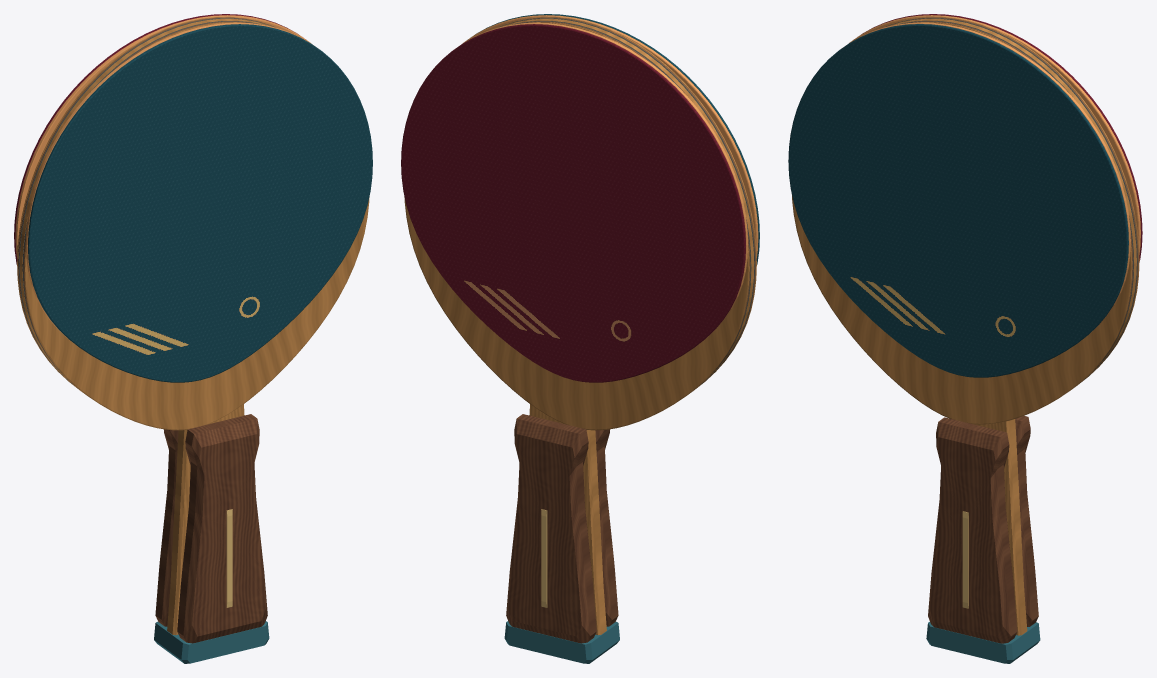
The model's file is rally-paddle-draft.glb.
The picture shows the model from 3 angles, left to right: view 1: azimuth 30°, elevation 25°; view 2: azimuth 150°, elevation 25°; view 3: azimuth 330°, elevation 25°; orthographic projection.
Visible parts, largest first — view 1: Ink blue playing face, Front walnut handle scale, Front maple veneer, Maple handle tang, Handle butt cap, Back walnut handle scale, Back amber sponge, Core ply, Front amber sponge, Oxblood playing face, Back walnut ply, Back maple veneer (+2 smaller); view 2: Oxblood playing face, Back walnut handle scale, Back maple veneer, Maple handle tang, Handle butt cap, Front walnut handle scale, Front amber sponge, Core ply, Back amber sponge, Ink blue playing face, Front walnut ply, Front maple veneer (+2 smaller); view 3: Ink blue playing face, Front walnut handle scale, Front maple veneer, Maple handle tang, Back walnut handle scale, Handle butt cap, Back amber sponge, Core ply, Front amber sponge, Oxblood playing face, Back walnut ply, Back maple veneer (+2 smaller).
Part boxes in pixels (x1=…): Ink blue playing face: x1=28, y1=24, x2=372, y2=382; Front walnut handle scale: x1=177, y1=414, x2=267, y2=643; Front maple veneer: x1=24, y1=22, x2=369, y2=430; Maple handle tang: x1=167, y1=404, x2=244, y2=635; Handle butt cap: x1=154, y1=621, x2=269, y2=663; Back walnut handle scale: x1=155, y1=429, x2=178, y2=626; Back amber sponge: x1=15, y1=15, x2=310, y2=257; Core ply: x1=19, y1=18, x2=272, y2=391; Front amber sponge: x1=25, y1=22, x2=309, y2=343; Oxblood playing face: x1=14, y1=14, x2=298, y2=264; Back walnut ply: x1=18, y1=17, x2=275, y2=382; Back maple veneer: x1=17, y1=16, x2=279, y2=381; Oxblood playing face: x1=401, y1=24, x2=745, y2=382; Back walnut handle scale: x1=506, y1=414, x2=596, y2=643; Back maple veneer: x1=404, y1=22, x2=749, y2=430; Maple handle tang: x1=529, y1=404, x2=606, y2=635; Handle butt cap: x1=504, y1=621, x2=619, y2=663; Front walnut handle scale: x1=595, y1=429, x2=618, y2=626; Front amber sponge: x1=463, y1=15, x2=758, y2=257; Core ply: x1=501, y1=18, x2=754, y2=391; Back amber sponge: x1=464, y1=22, x2=748, y2=343; Ink blue playing face: x1=475, y1=14, x2=759, y2=264; Front walnut ply: x1=498, y1=17, x2=755, y2=382; Front maple veneer: x1=494, y1=16, x2=756, y2=381; Ink blue playing face: x1=788, y1=24, x2=1128, y2=377; Front walnut handle scale: x1=928, y1=417, x2=1017, y2=643; Front maple veneer: x1=792, y1=22, x2=1132, y2=424; Maple handle tang: x1=973, y1=419, x2=1027, y2=635; Back walnut handle scale: x1=1015, y1=416, x2=1038, y2=626; Handle butt cap: x1=926, y1=621, x2=1040, y2=663; Back amber sponge: x1=849, y1=15, x2=1140, y2=254; Core ply: x1=887, y1=18, x2=1136, y2=384; Front amber sponge: x1=850, y1=22, x2=1130, y2=340; Oxblood playing face: x1=862, y1=14, x2=1142, y2=262; Back walnut ply: x1=884, y1=17, x2=1138, y2=377; Back maple veneer: x1=880, y1=16, x2=1139, y2=376.
Size of the model in its own units: 0.152 by 0.263 by 0.028.
9 materials, 4 textured.
